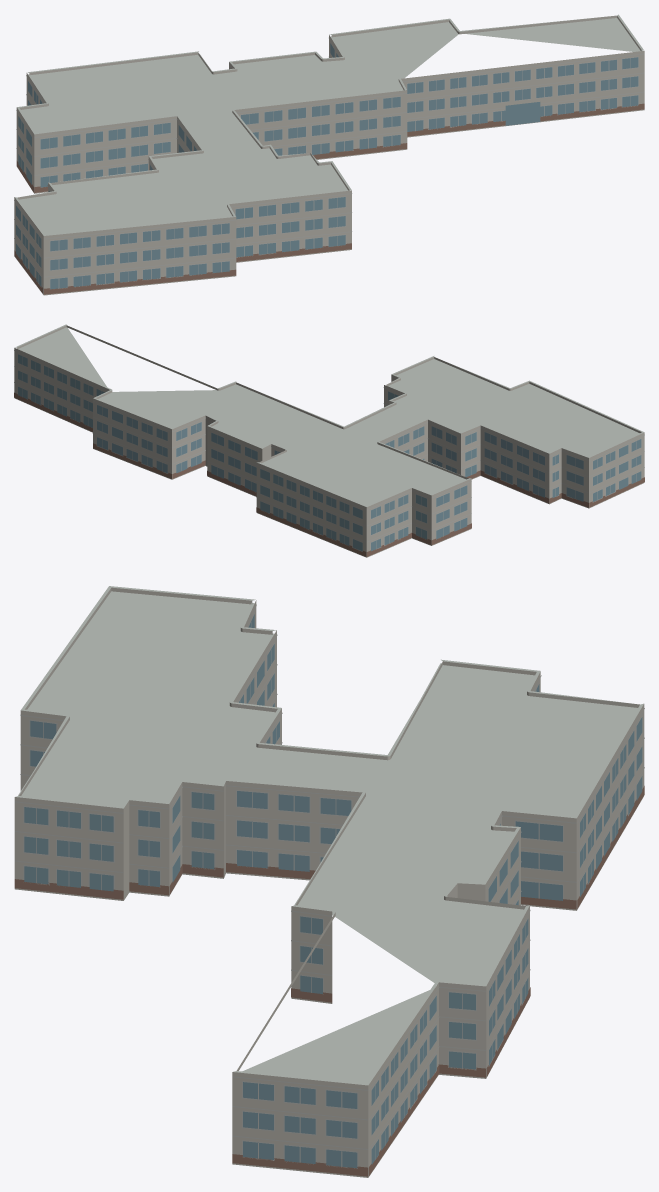
Rendered from public-48866204-d520-4399-a8c4-96ff9fa55b26.glb.
3 renders of one model, top to bottom at view 1: azimuth 30°, elevation 25°; view 2: azimuth 150°, elevation 25°; view 3: azimuth 270°, elevation 25°, orthographic. The views are drawn at different scales.
Parts seen in each view (by area): view 1: public-48866204-d520-4399-a8c4-96ff9fa55b26; view 2: public-48866204-d520-4399-a8c4-96ff9fa55b26; view 3: public-48866204-d520-4399-a8c4-96ff9fa55b26.
Part boxes in pixels (x1,y1,x2,y2): public-48866204-d520-4399-a8c4-96ff9fa55b26: [14, 14, 644, 295]; public-48866204-d520-4399-a8c4-96ff9fa55b26: [14, 324, 644, 557]; public-48866204-d520-4399-a8c4-96ff9fa55b26: [14, 586, 644, 1177].
Size of the model in its own units: 106 by 9.15 by 56.57.
